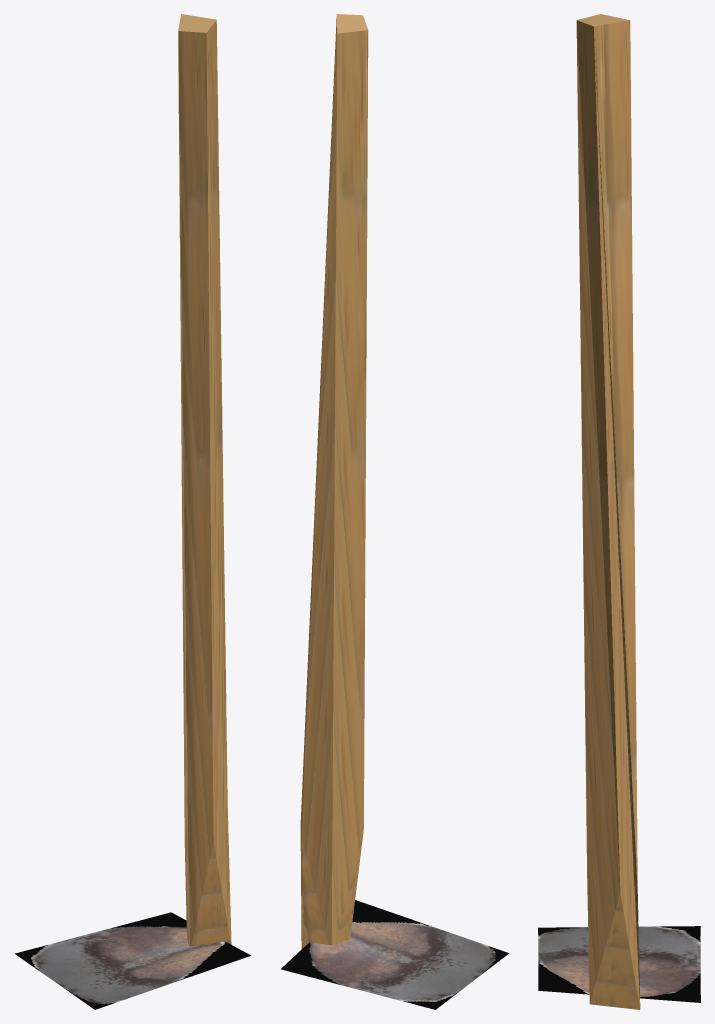
Rendered from hoe.glb.
3 views of the same model, side by side, from view 1: azimuth 30°, elevation 25°; view 2: azimuth 150°, elevation 25°; view 3: azimuth 270°, elevation 25° (orthographic). The views are drawn at different scales.
Visible parts, largest first — view 1: Cylinder, Plane; view 2: Cylinder, Plane; view 3: Cylinder, Plane.
Part boxes in pixels (left/top/right/bottom): Cylinder: left=178, top=14, right=231, bottom=946; Plane: left=15, top=912, right=250, bottom=1009; Cylinder: left=300, top=14, right=368, bottom=948; Plane: left=281, top=900, right=508, bottom=1009; Cylinder: left=576, top=14, right=640, bottom=1009; Plane: left=538, top=926, right=700, bottom=1002.
Size of the model in its own units: 0.7718 by 3.95 by 0.5943.
2 materials, 2 textured.
